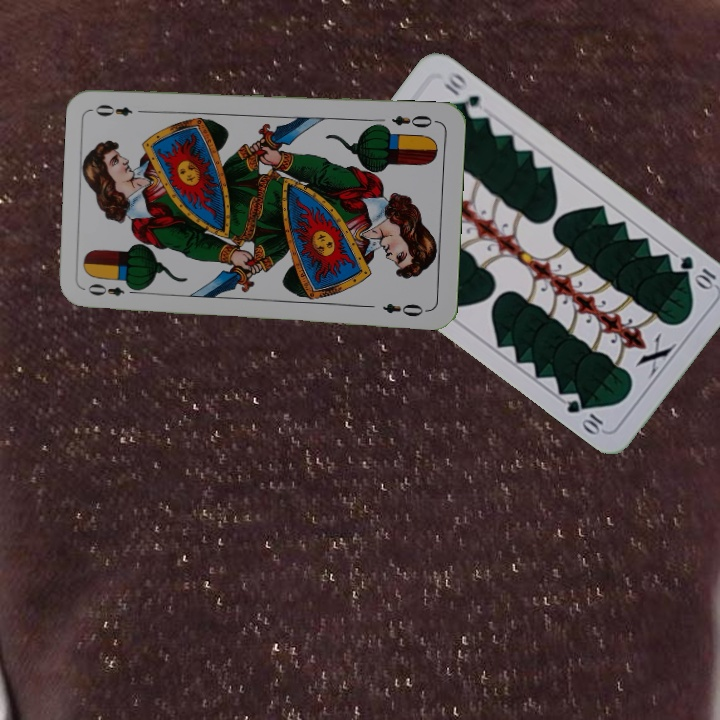EO: (83, 280, 142, 299), (388, 111, 440, 130)
G10: (676, 251, 719, 292)
